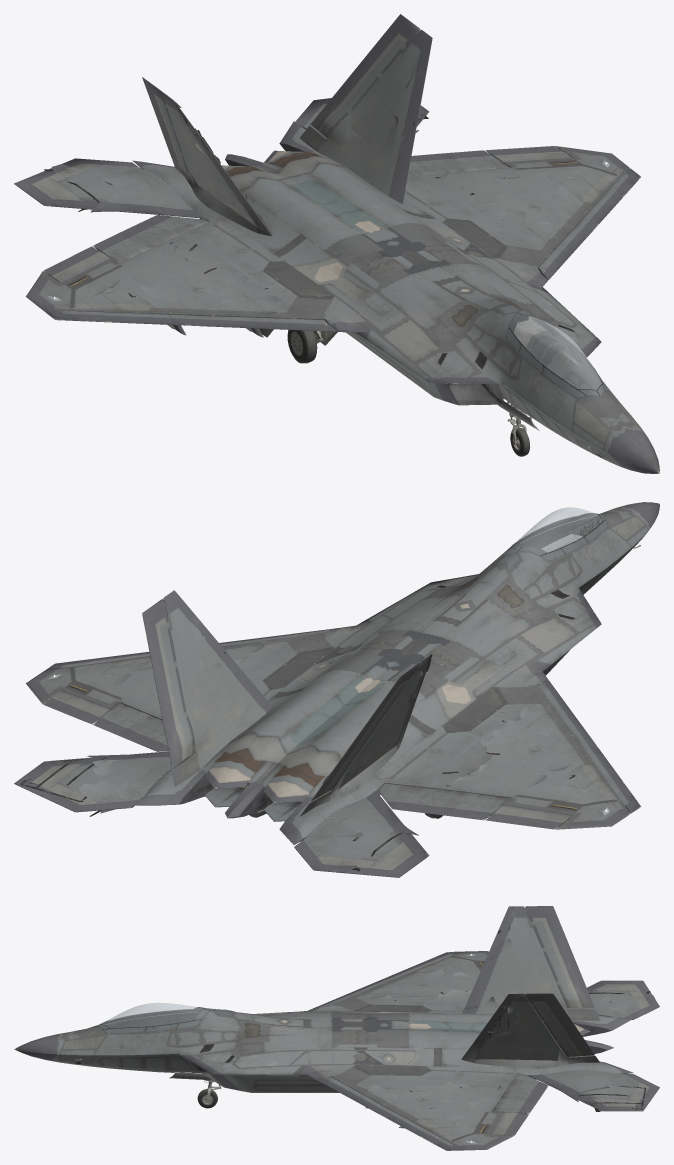
File: VEH_F22.glb
3 renders of one model, top to bottom at view 1: azimuth 30°, elevation 25°; view 2: azimuth 150°, elevation 25°; view 3: azimuth 270°, elevation 25°, orthographic. The views are drawn at different scales.
Parts seen in each view (by area): view 1: ob_veh_airplane_f22_base_s0, ob_veh_airplane_f22_base_s1, ob_veh_airplane_f22_base_s6, ob_veh_airplane_f22_base_s2; view 2: ob_veh_airplane_f22_base_s0, ob_veh_airplane_f22_base_s1, ob_veh_airplane_f22_base_s6, ob_veh_airplane_f22_base_s3; view 3: ob_veh_airplane_f22_base_s0, ob_veh_airplane_f22_base_s1, ob_veh_airplane_f22_base_s6, ob_veh_airplane_f22_base_s3.
Boxes of the visible parts, x1,y1,x2,y2 form: ob_veh_airplane_f22_base_s0: [14, 98, 659, 473]; ob_veh_airplane_f22_base_s1: [44, 14, 658, 473]; ob_veh_airplane_f22_base_s6: [514, 315, 601, 390]; ob_veh_airplane_f22_base_s2: [449, 316, 573, 404]; ob_veh_airplane_f22_base_s0: [14, 502, 659, 877]; ob_veh_airplane_f22_base_s1: [88, 532, 647, 872]; ob_veh_airplane_f22_base_s6: [516, 507, 601, 552]; ob_veh_airplane_f22_base_s3: [20, 516, 601, 870]; ob_veh_airplane_f22_base_s0: [14, 951, 659, 1150]; ob_veh_airplane_f22_base_s1: [15, 906, 643, 1150]; ob_veh_airplane_f22_base_s6: [103, 1002, 204, 1028]; ob_veh_airplane_f22_base_s3: [394, 907, 650, 1115].
Bounding box in the file's own units: 13.62 × 5.06 × 18.73.
Materials: 7 (5 with a texture image).
